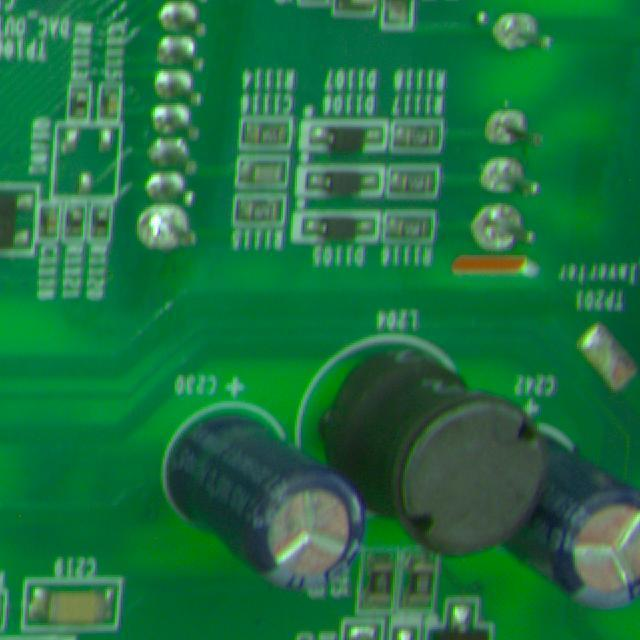Insufficient solder: (468, 193, 526, 261), (482, 107, 544, 160)
